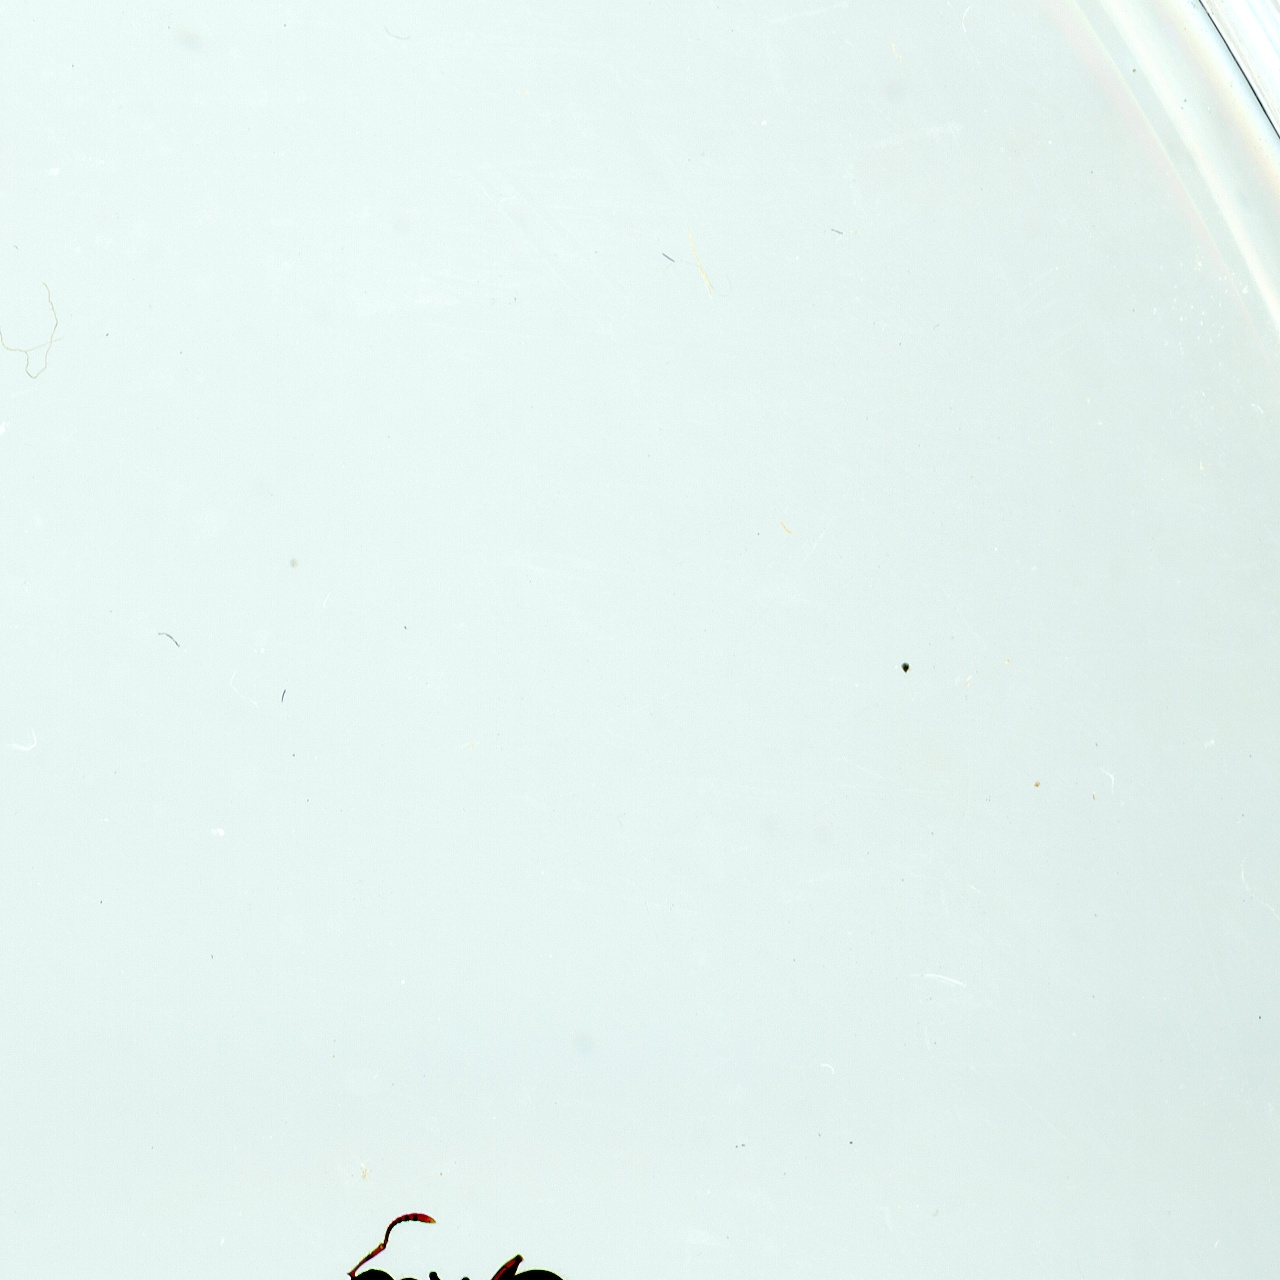arthropod: (289, 1206, 589, 1280)
